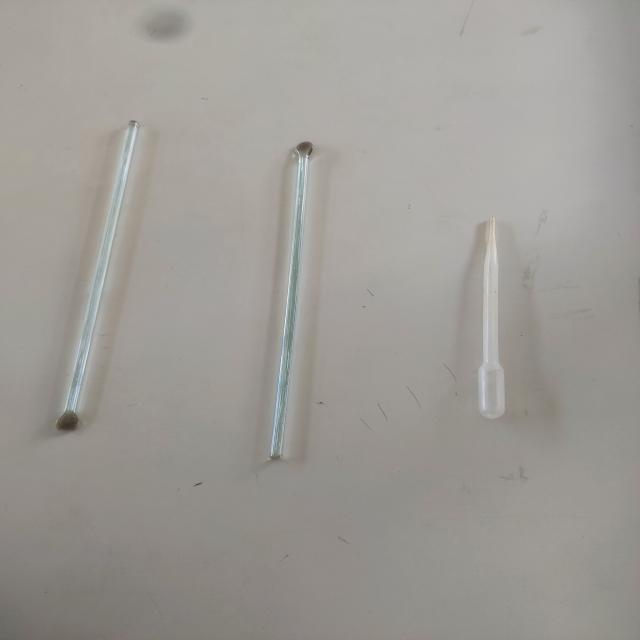Glass_Rod: (32, 89, 156, 456), (235, 114, 354, 487)
Pipette: (459, 195, 540, 452)
